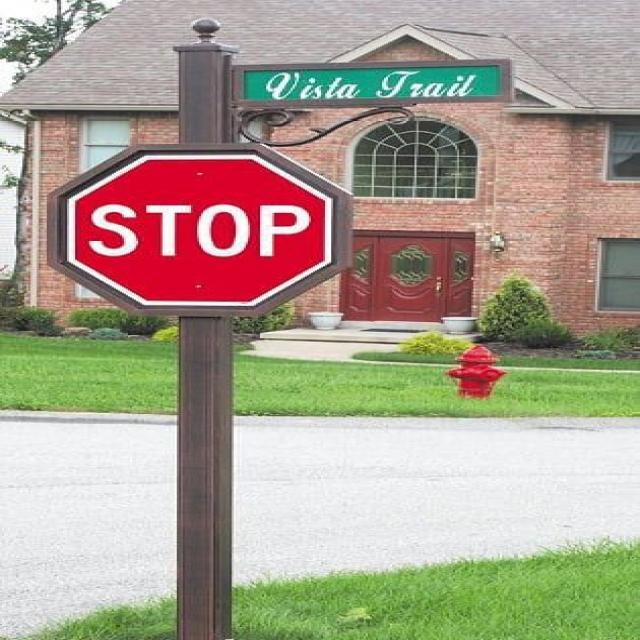stop: (47, 141, 348, 318)
